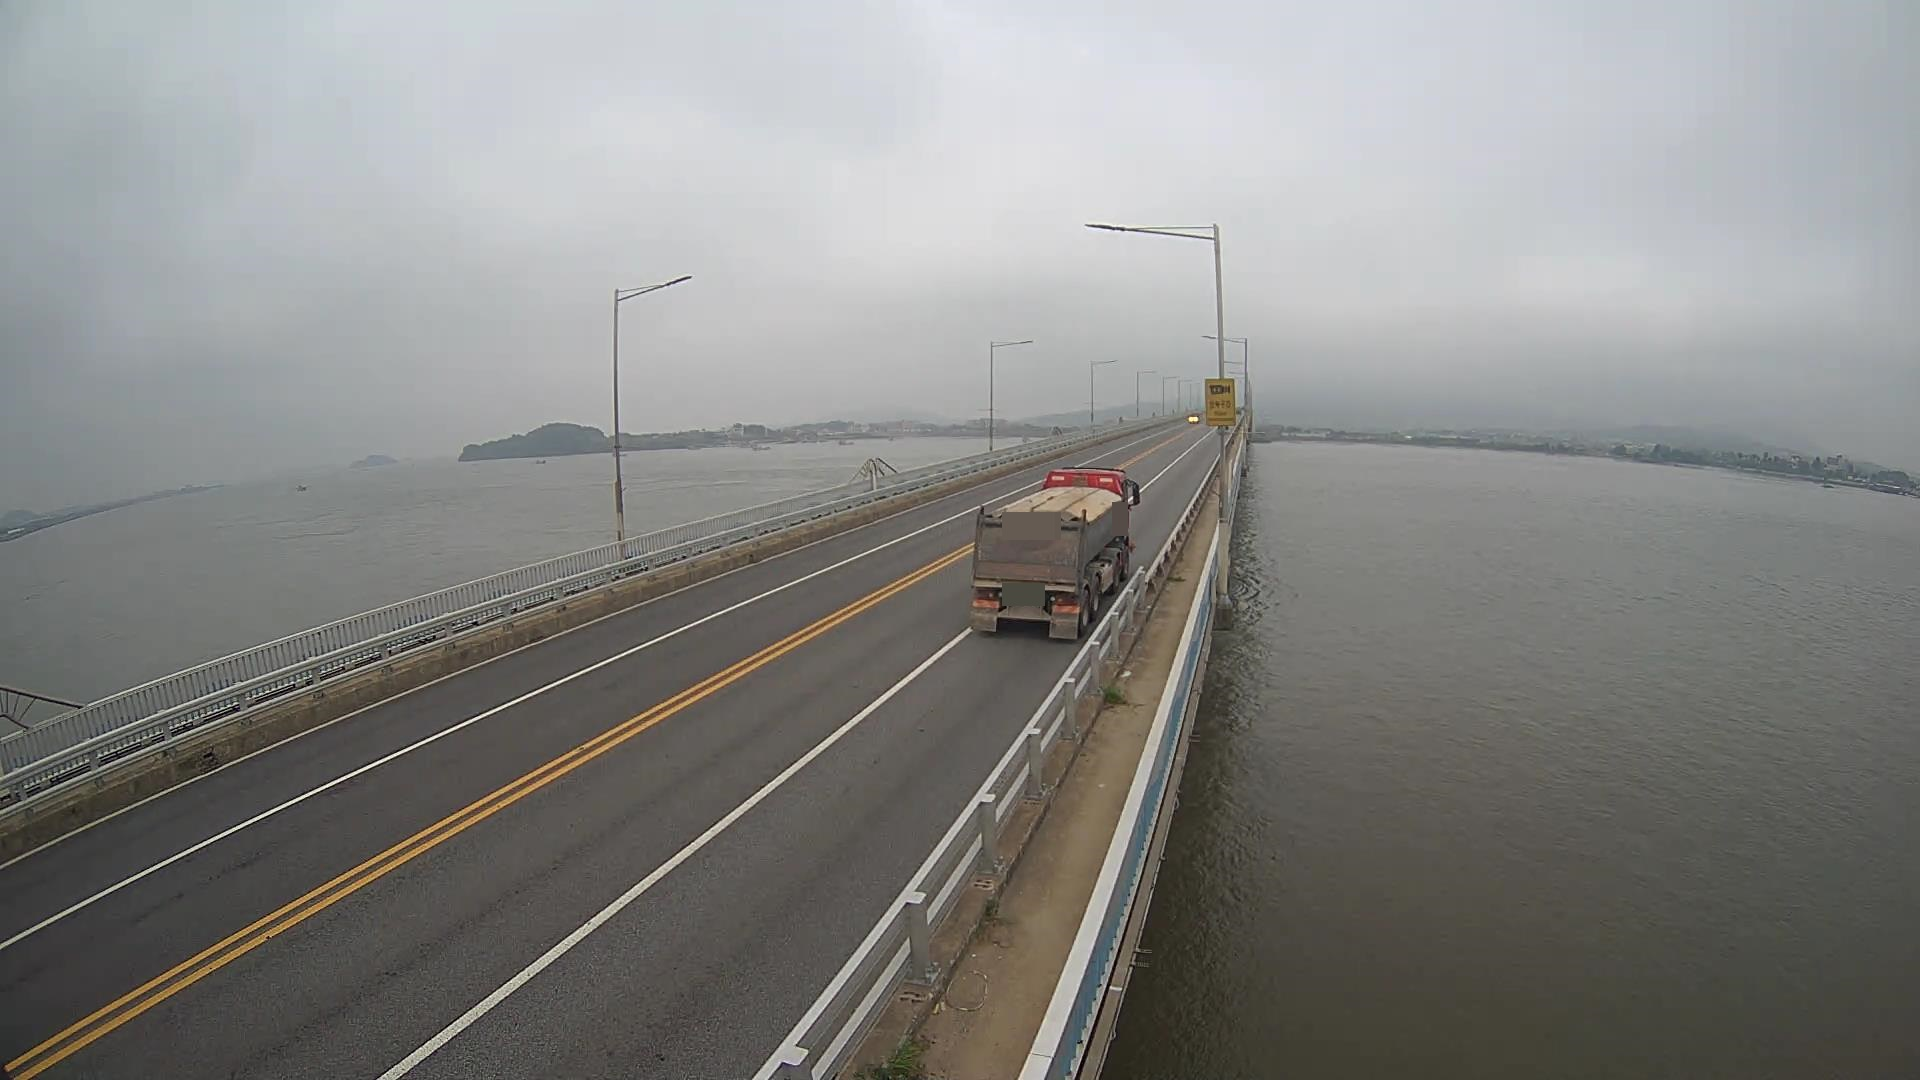정상차량: (971, 467, 1141, 640)
